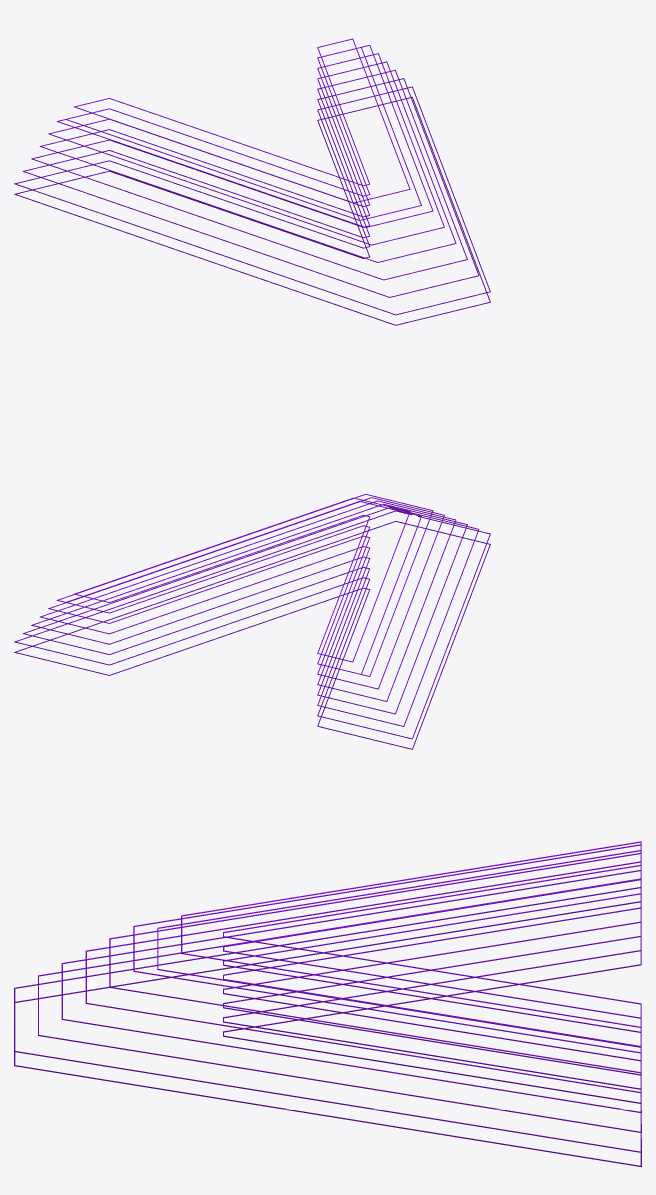
Rendered from kakuyoku03.glb.
3 renders of one model, top to bottom at view 1: azimuth 30°, elevation 25°; view 2: azimuth 150°, elevation 25°; view 3: azimuth 270°, elevation 25°, orthographic. The views are drawn at different scales.
Parts seen in each view (by area): view 1: スイープ.3, スイープ.2, スイープ.4, スイープ.6, スイープ.5, スイープ.9, スイープ.10, スイープ.7, スイープ.8; view 2: スイープ.2, スイープ.3, スイープ.4, スイープ.5, スイープ.6, スイープ.7, スイープ.9, スイープ.8, スイープ.10; view 3: スイープ.3, スイープ.2, スイープ.5, スイープ.7, スイープ.4, スイープ.6, スイープ.9, スイープ.8, スイープ.10, スイープ 9, スイープ 0, スイープ 5 (+1 smaller).
Part boxes in pixels (bbox=[...]): スイープ.3: bbox=[14, 86, 490, 315]; スイープ.2: bbox=[14, 97, 490, 325]; スイープ.4: bbox=[22, 78, 479, 297]; スイープ.6: bbox=[39, 61, 456, 262]; スイープ.5: bbox=[31, 69, 467, 280]; スイープ.9: bbox=[74, 38, 410, 203]; スイープ.10: bbox=[65, 47, 421, 220]; スイープ.7: bbox=[48, 53, 444, 245]; スイープ.8: bbox=[56, 45, 433, 227]; スイープ.2: bbox=[14, 521, 490, 749]; スイープ.3: bbox=[14, 510, 490, 739]; スイープ.4: bbox=[22, 507, 479, 726]; スイープ.5: bbox=[31, 504, 467, 714]; スイープ.6: bbox=[40, 500, 456, 701]; スイープ.7: bbox=[48, 497, 444, 689]; スイープ.9: bbox=[74, 497, 410, 662]; スイープ.8: bbox=[56, 494, 433, 676]; スイープ.10: bbox=[65, 501, 421, 674]; スイープ.3: bbox=[14, 887, 641, 1152]; スイープ.2: bbox=[14, 901, 641, 1167]; スイープ.5: bbox=[61, 870, 641, 1113]; スイープ.7: bbox=[109, 853, 641, 1073]; スイープ.4: bbox=[38, 878, 641, 1132]; スイープ.6: bbox=[85, 861, 641, 1093]; スイープ.9: bbox=[181, 841, 641, 1027]; スイープ.8: bbox=[133, 844, 641, 1053]; スイープ.10: bbox=[157, 850, 641, 1047]; スイープ 9: bbox=[14, 788, 641, 1052]; スイープ 0: bbox=[14, 1167, 641, 1180]; スイープ 5: bbox=[14, 1096, 641, 1109].
Size of the model in its own units: 0.0201 by 0.0045 by 0.02.
